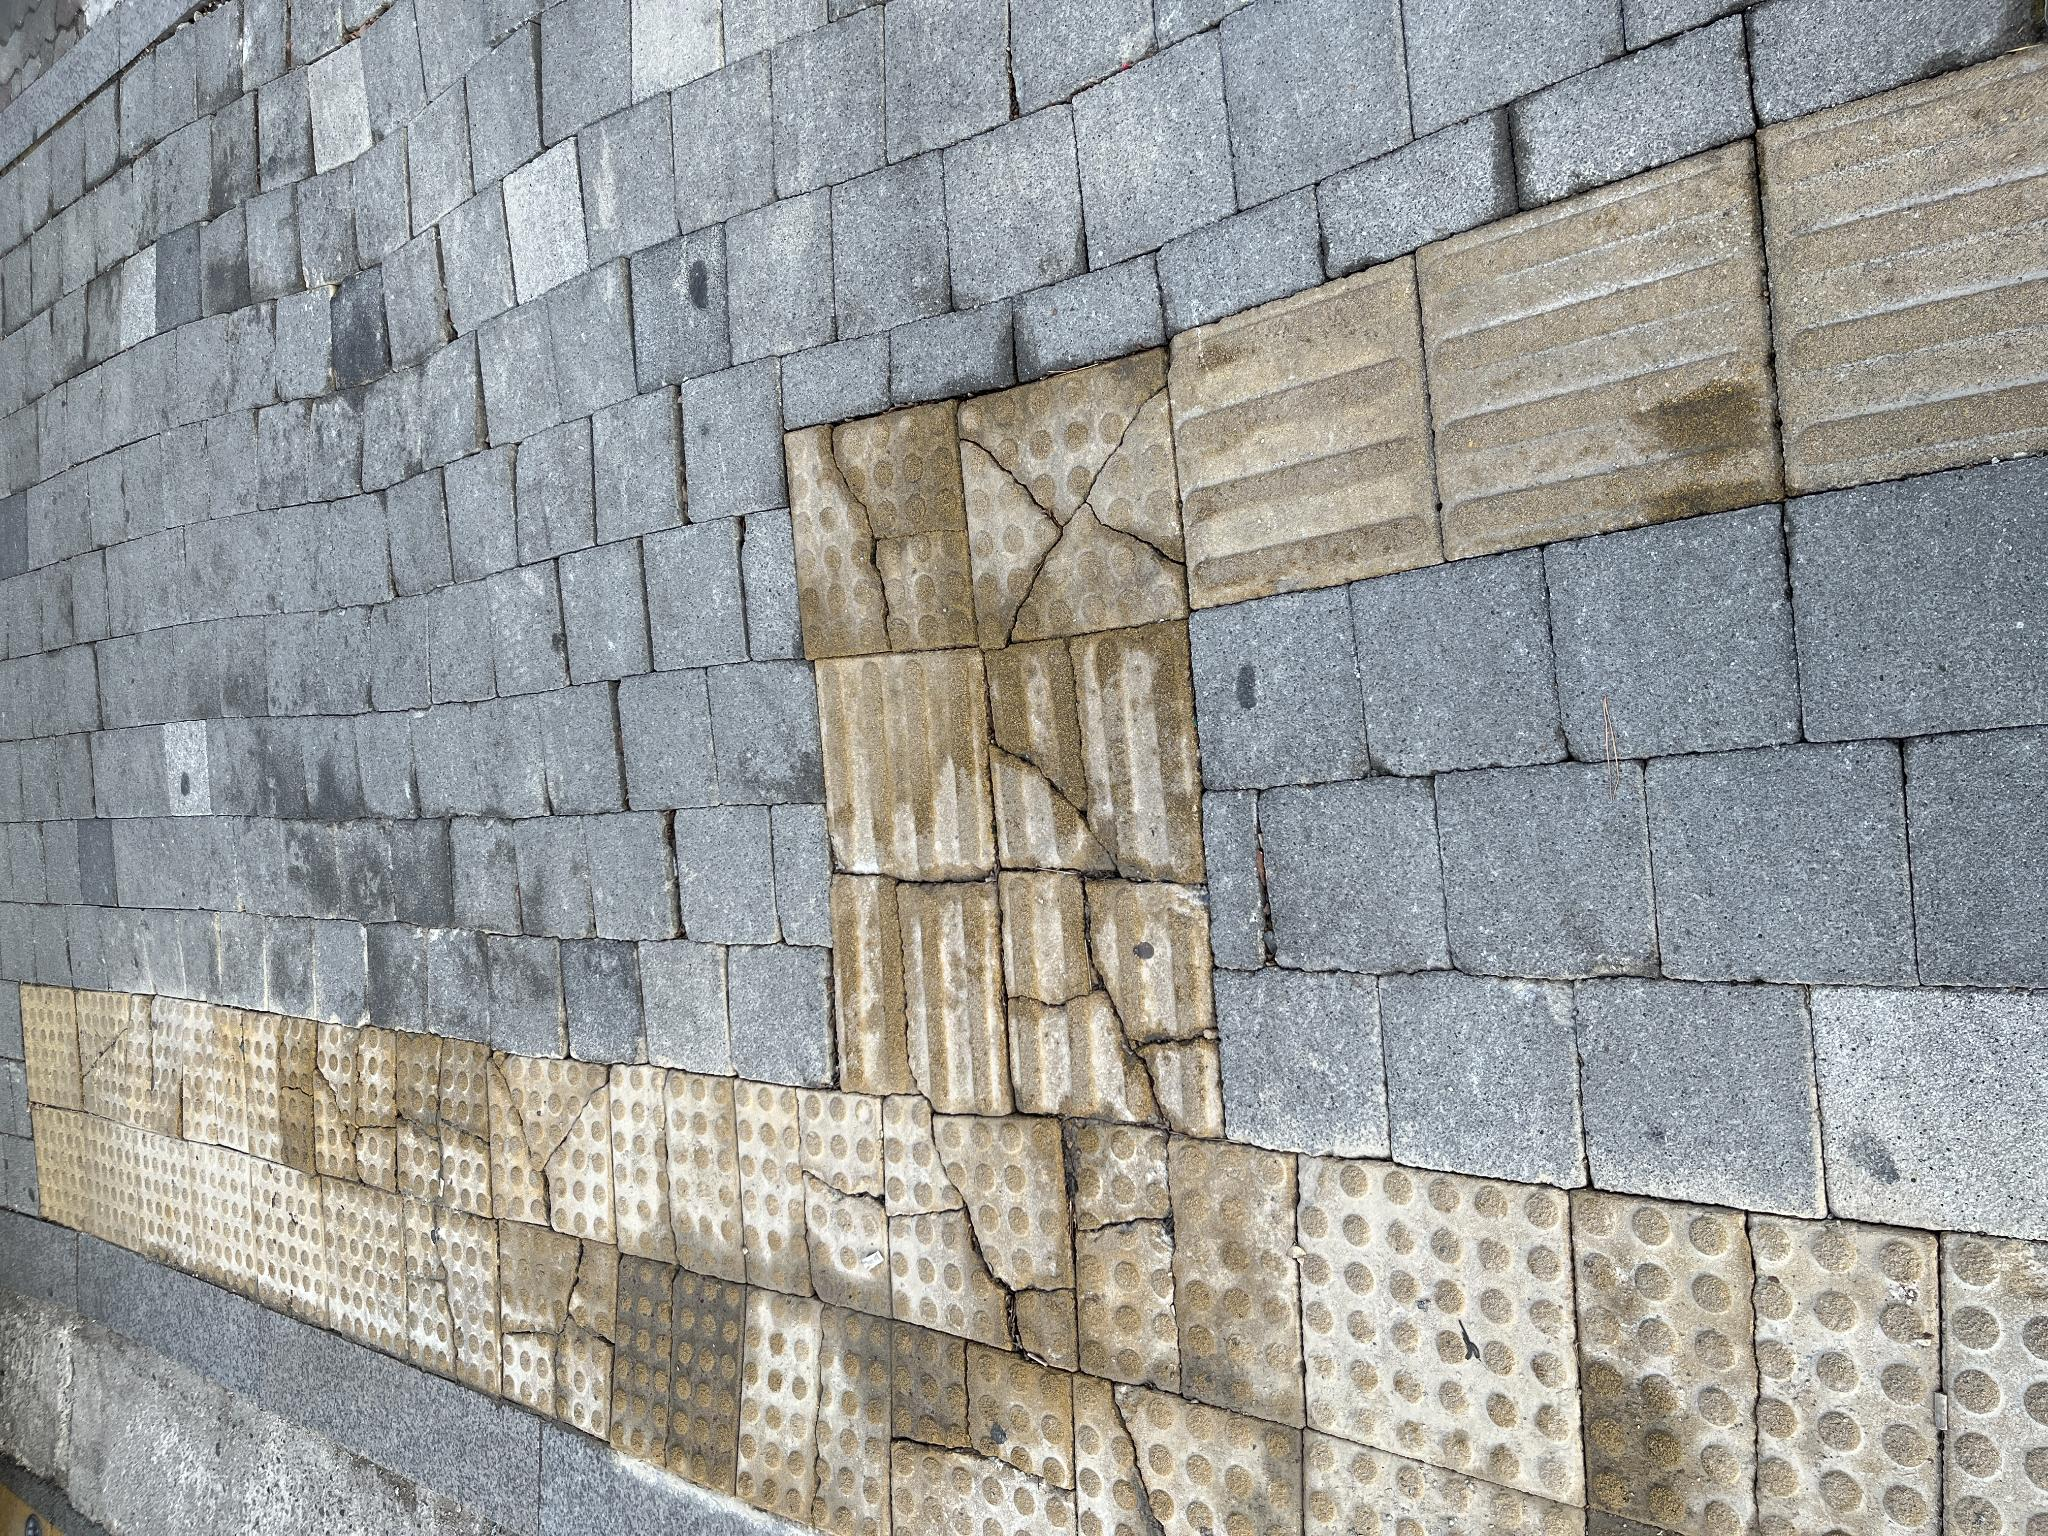Stop block broken: (113, 1070, 413, 1300), (889, 957, 1184, 1184), (169, 887, 434, 1075), (882, 789, 1134, 971), (219, 736, 452, 887), (44, 611, 281, 742), (256, 613, 469, 744), (97, 500, 316, 615), (295, 492, 482, 613), (142, 403, 340, 499), (319, 397, 503, 492), (343, 316, 513, 395), (364, 245, 524, 313)
Stop block normal: (47, 1300, 379, 1536), (176, 321, 360, 407), (237, 189, 395, 257)
Straight block broken: (406, 1004, 663, 1225), (658, 983, 910, 1202), (423, 834, 658, 1007)
Straight block normal: (929, 1171, 1279, 1439), (977, 1417, 1326, 1536), (664, 815, 889, 994)
